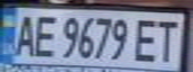6: (75, 12, 96, 60)
7: (93, 14, 115, 61)
9: (57, 12, 81, 60), (109, 15, 133, 61)
A: (9, 11, 39, 57)
E: (130, 15, 163, 63), (30, 11, 60, 58)
T: (151, 16, 184, 63)
